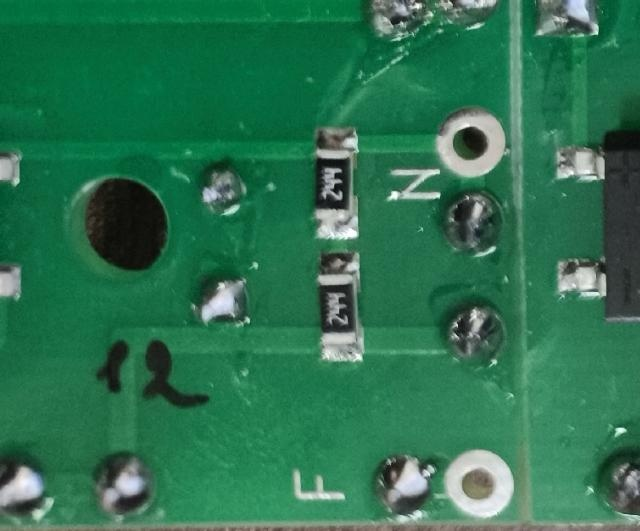chip-resistor: (316, 248, 366, 363), (313, 122, 359, 241)
